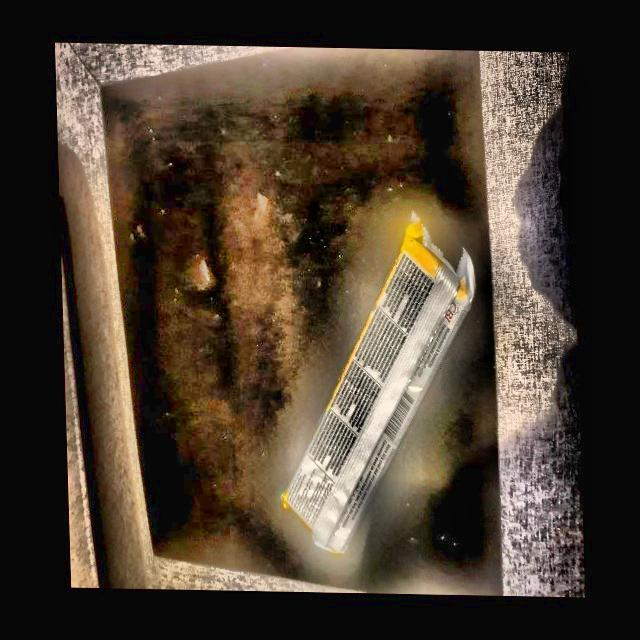lemon puff: (285, 220, 477, 552)
